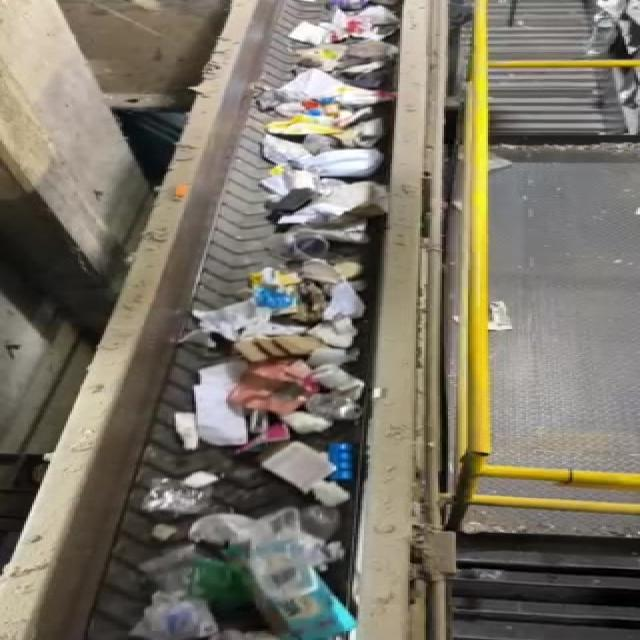paper: (162, 362, 256, 454), (255, 439, 334, 506)
pp: (252, 516, 360, 640), (112, 586, 232, 640), (128, 472, 234, 523), (247, 362, 323, 428), (318, 442, 360, 490)
